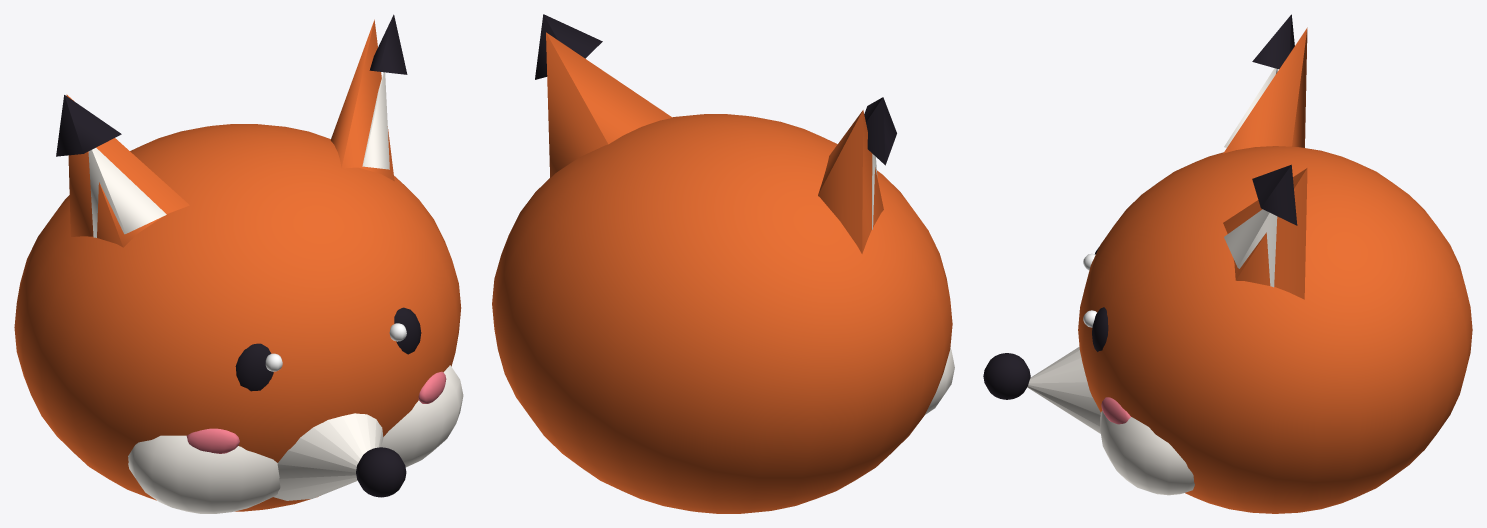
Rendered from head_fox.glb.
3 renders of one model, left to right at view 1: azimuth 30°, elevation 25°; view 2: azimuth 150°, elevation 25°; view 3: azimuth 270°, elevation 25°, orthographic. The views are drawn at different scales.
Bounding box in the file's own units: 1.08 × 1.12 × 1.24.
